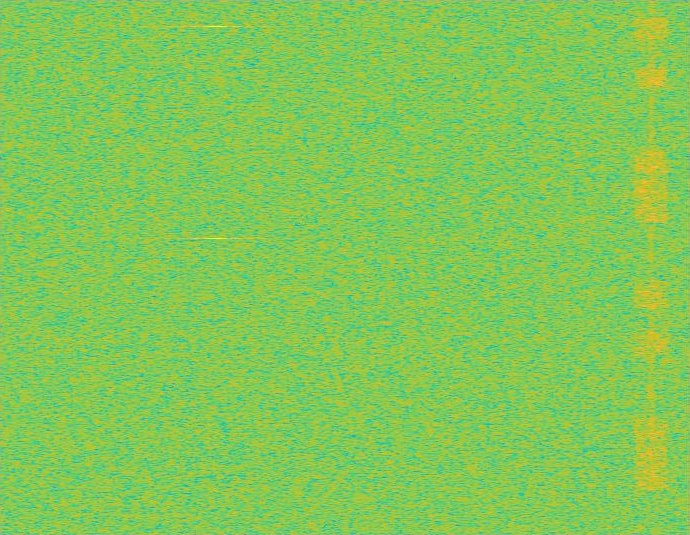DSSS: (649, 0, 654, 534)
LTE: (634, 0, 669, 534)
Radar: (209, 0, 223, 534)
